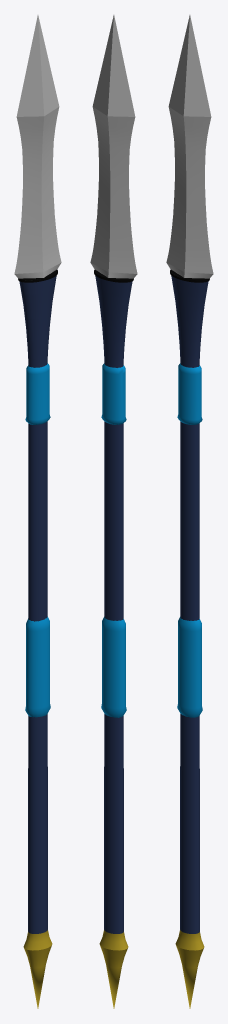
File: Spear.fbx
3 views of the same model, side by side, from view 1: azimuth 30°, elevation 25°; view 2: azimuth 150°, elevation 25°; view 3: azimuth 330°, elevation 25° (orthographic).
Visible parts, largest first — view 1: Spear01; view 2: Spear01; view 3: Spear01.
Part boxes in pixels (<box>): Spear01: <box>14,15,61,1008</box>; Spear01: <box>90,15,137,1008</box>; Spear01: <box>166,15,213,1008</box>.
Bounding box in the file's own units: 8.49 × 171 × 3.91.
